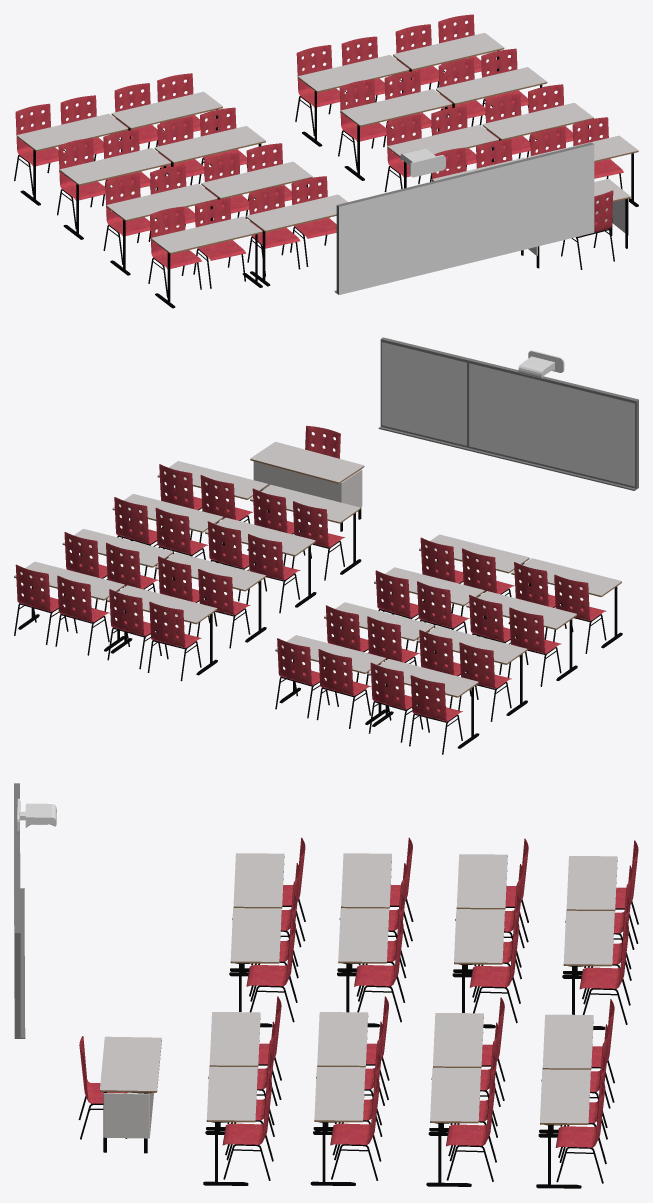
File: fur_bn2_005_sized.glb
3 views of the same model, one above another, from view 1: azimuth 30°, elevation 25°; view 2: azimuth 150°, elevation 25°; view 3: azimuth 270°, elevation 25° (orthographic). The views are drawn at different scales.
Parts seen in each view (by area): view 1: Tableau39, Tableau40, Table_Table323, Table_Table330, Table_Table322, Table_Table319, Table_Table320, Table_Table328, Table_Table327, Table_Table318, Table_Table326, Table_Table321 (+42 smaller); view 2: Tableau39, Tableau40, Table_prof_Table16, Table_prof_Cube_16, Chaise_Rouge_Pied_391, Chaise_Rouge_Pied_407, Chaise_Rouge_Pied_393, Chaise_Rouge_Pied_409, Chaise_Rouge_Pied_399, Chaise_Rouge_Pied_383, Chaise_Rouge_Pied_408, Chaise_Rouge_Pied_392 (+41 smaller); view 3: Table_prof_Table16, Table_Table326, Table_Table324, Table_Table328, Table_Table318, Table_Table322, Table_Table323, Table_Table325, Table_Table316, Table_Table330, Table_Table320, Table_Table327 (+26 smaller).
Part boxes in pixels (x1,y1,x2,y2): Tableau39: (334,164,507,294); Tableau40: (505,142,594,253); Table_Table323: (151,216,262,254); Table_Table330: (111,91,222,129); Table_Table322: (393,33,504,70); Table_Table319: (341,89,452,126); Table_Table320: (436,67,547,104); Table_Table328: (154,126,265,163); Table_Table327: (59,148,170,185); Table_Table318: (482,103,593,140); Table_Table326: (201,161,312,198); Table_Table321: (298,55,409,92); Tableau39: (465,358,638,490); Tableau40: (378,337,469,449); Table_prof_Table16: (250,442,364,483); Table_prof_Cube_16: (253,461,362,507); Chaise_Rouge_Pied_391: (147,601,201,681); Chaise_Rouge_Pied_407: (409,675,462,754); Chaise_Rouge_Pied_393: (55,575,109,655); Chaise_Rouge_Pied_409: (316,649,371,728); Chaise_Rouge_Pied_399: (507,607,561,686); Chaise_Rouge_Pied_383: (246,534,300,613); Chaise_Rouge_Pied_408: (275,638,329,718); Chaise_Rouge_Pied_392: (14,564,68,644); Table_prof_Table16: (100,1036,161,1092); Table_Table326: (338,908,389,963); Table_Table324: (230,908,281,963); Table_Table328: (454,909,504,964); Table_Table318: (314,1066,365,1122); Table_Table322: (540,1069,590,1124); Table_Table323: (233,853,284,908); Table_Table325: (341,853,391,908); Table_Table316: (206,1066,257,1122); Table_Table330: (563,910,614,966); Table_Table320: (430,1067,480,1123); Table_Table327: (456,854,507,909).
Size of the model in its own units: 6.56 by 2.38 by 6.42.
Materials: 10 (2 with a texture image).
